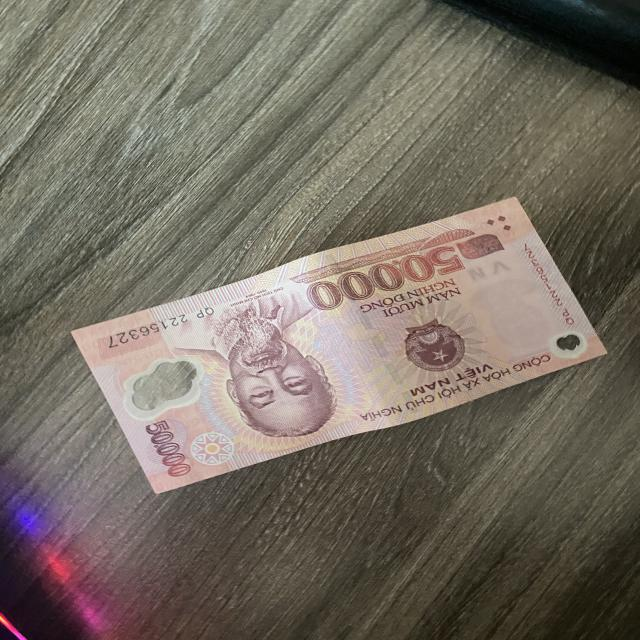50 000 VND: (68, 195, 610, 495)
